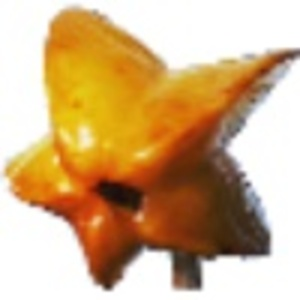carambola: (1, 5, 300, 292)
